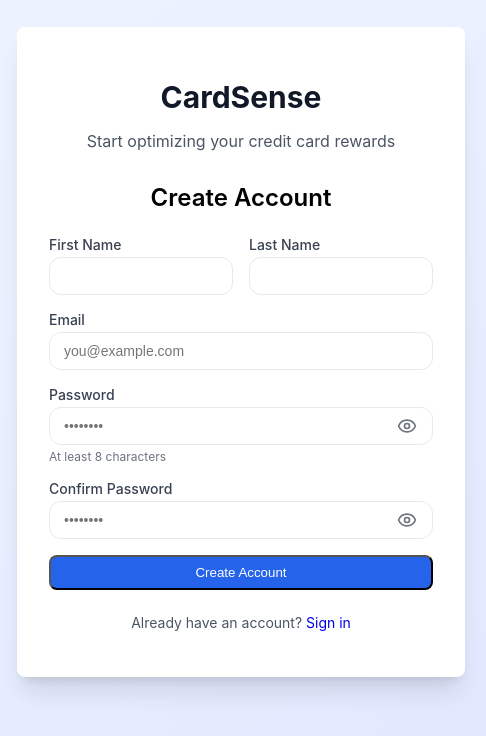
Test case: Register Component › Validation › shows error when password is less than 8 characters
Step 1. Type "John" into the field labelled "First Name" → coordinates (141, 276), box [49,257,233,295]
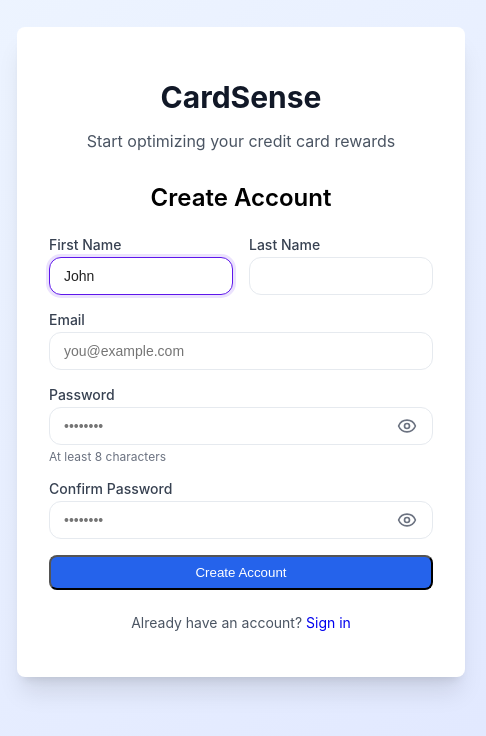
Step 2. Type "Doe" into the field labelled "Last Name" → coordinates (341, 276), box [249,257,433,295]
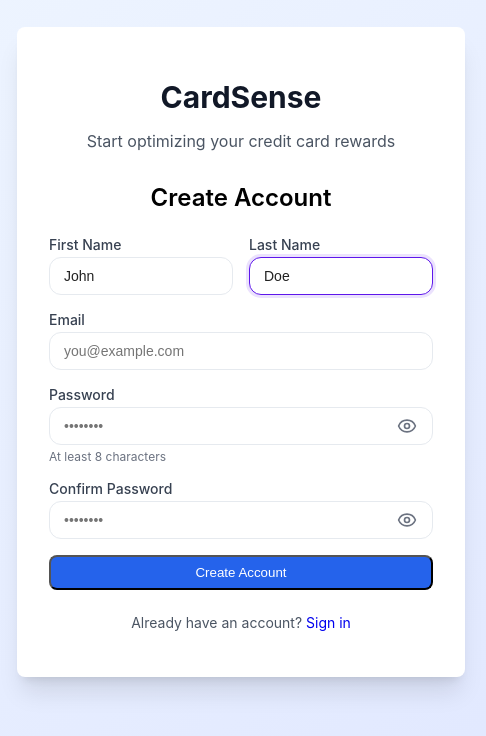
Step 3. Type "john@example.com" into the field labelled "Email" → coordinates (241, 351), box [49,332,433,370]
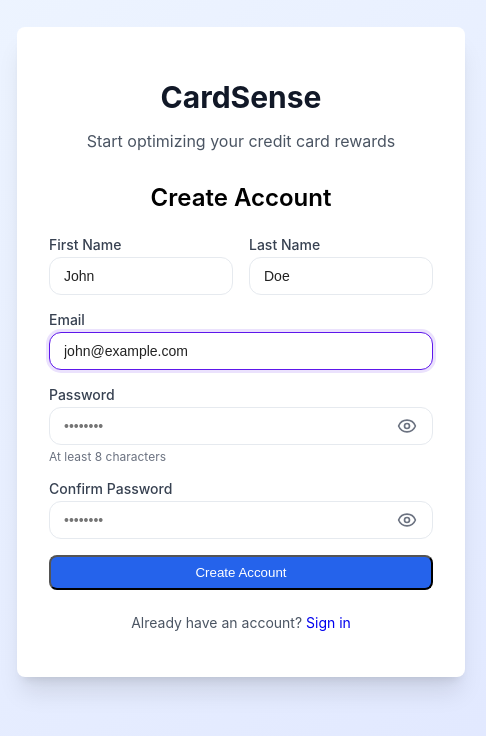
Step 4. Type "short" into the password field labelled "Password" → coordinates (241, 426), box [49,407,433,445]
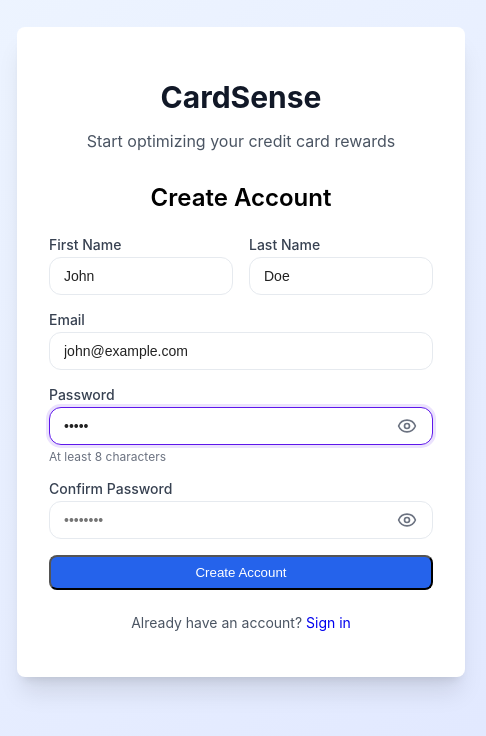
Step 5. Type "short" into the password field labelled "Confirm Password" → coordinates (241, 520), box [49,501,433,539]
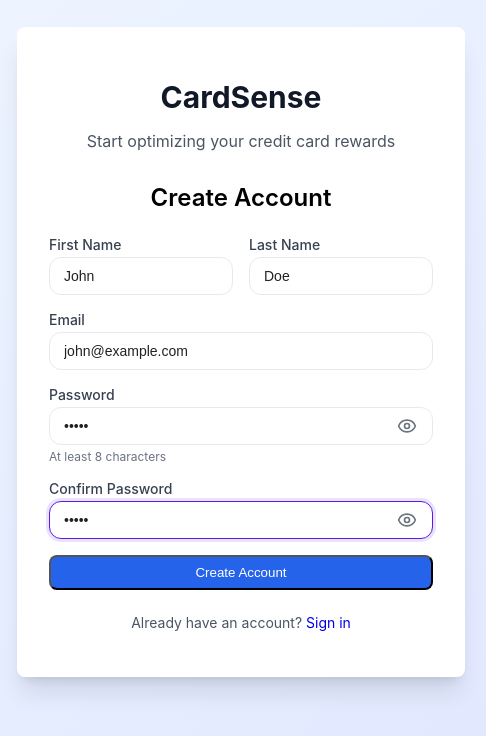
Step 6. Click the button "Create Account" → coordinates (241, 572), box [49,555,433,590]
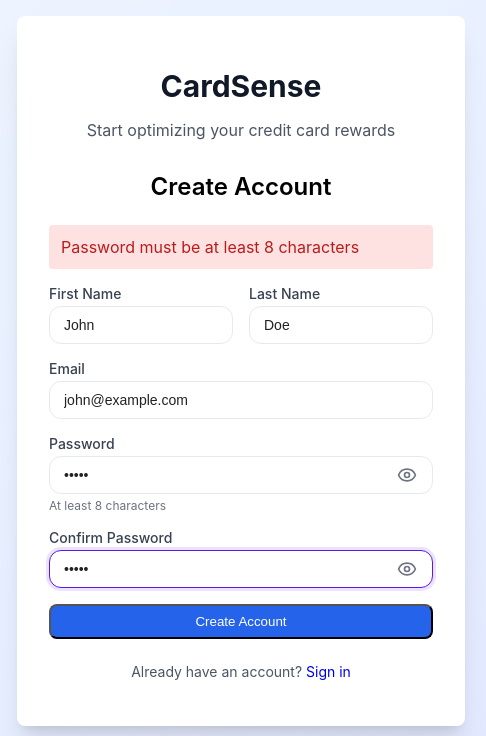
Expected: the text "Password must be at least 8 characters" is shown, [49,225,433,269]
